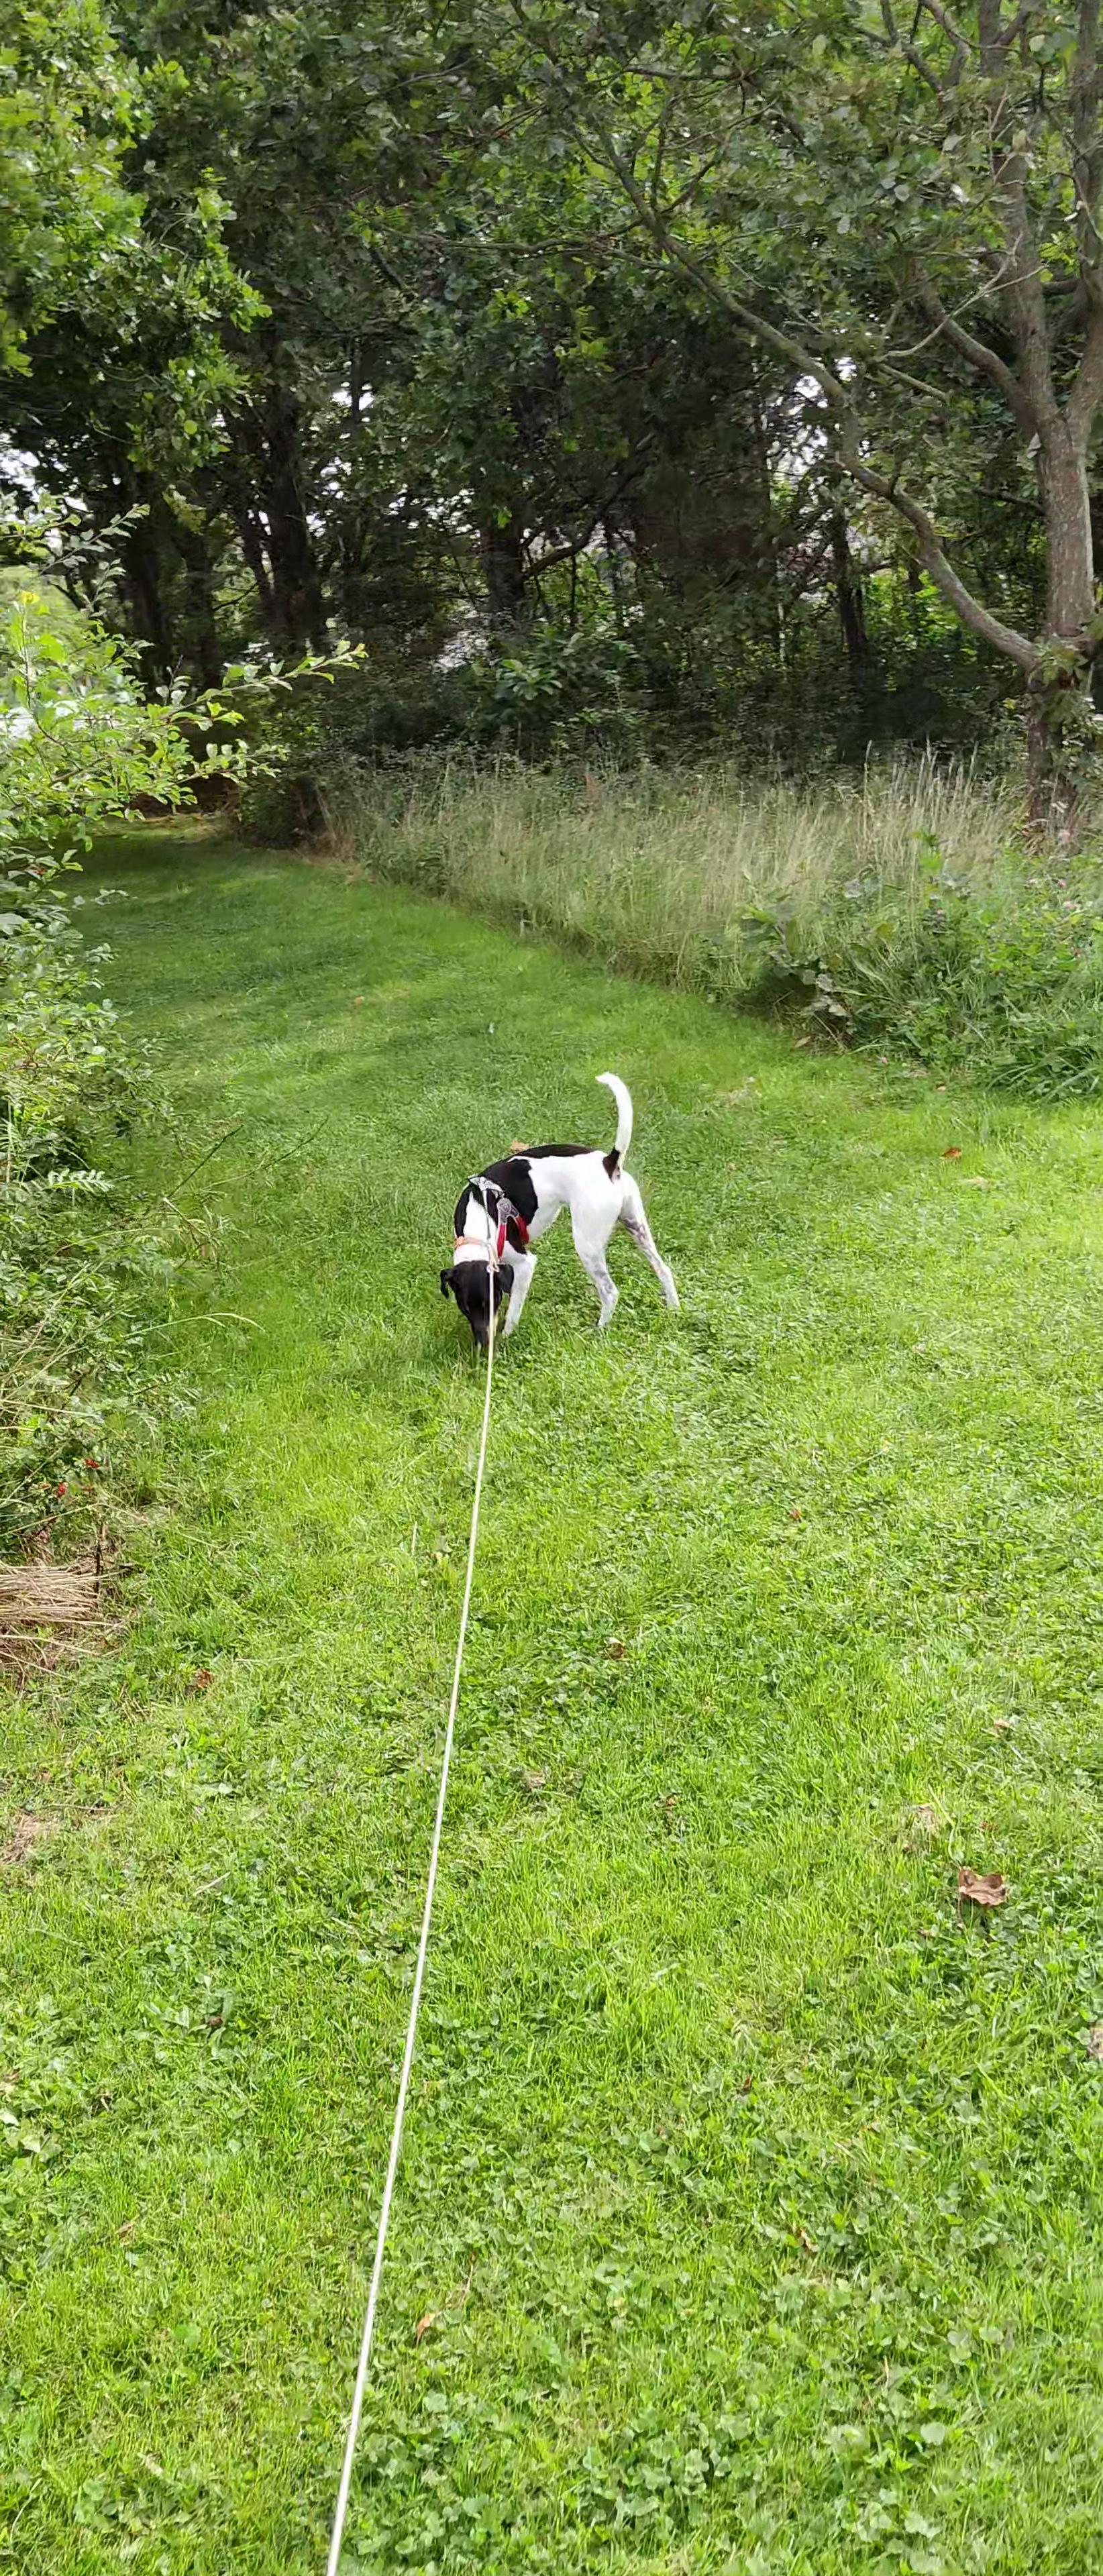Dog: (431, 1056, 689, 1360)
